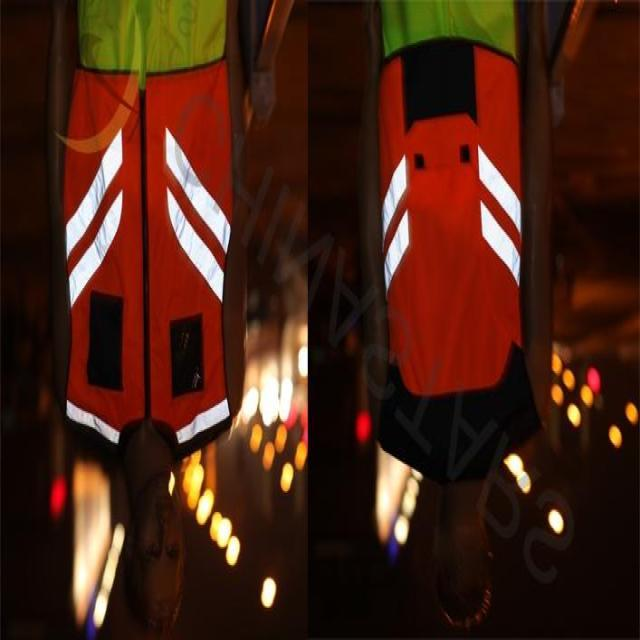Vest: (62, 64, 242, 452), (382, 41, 522, 408)
